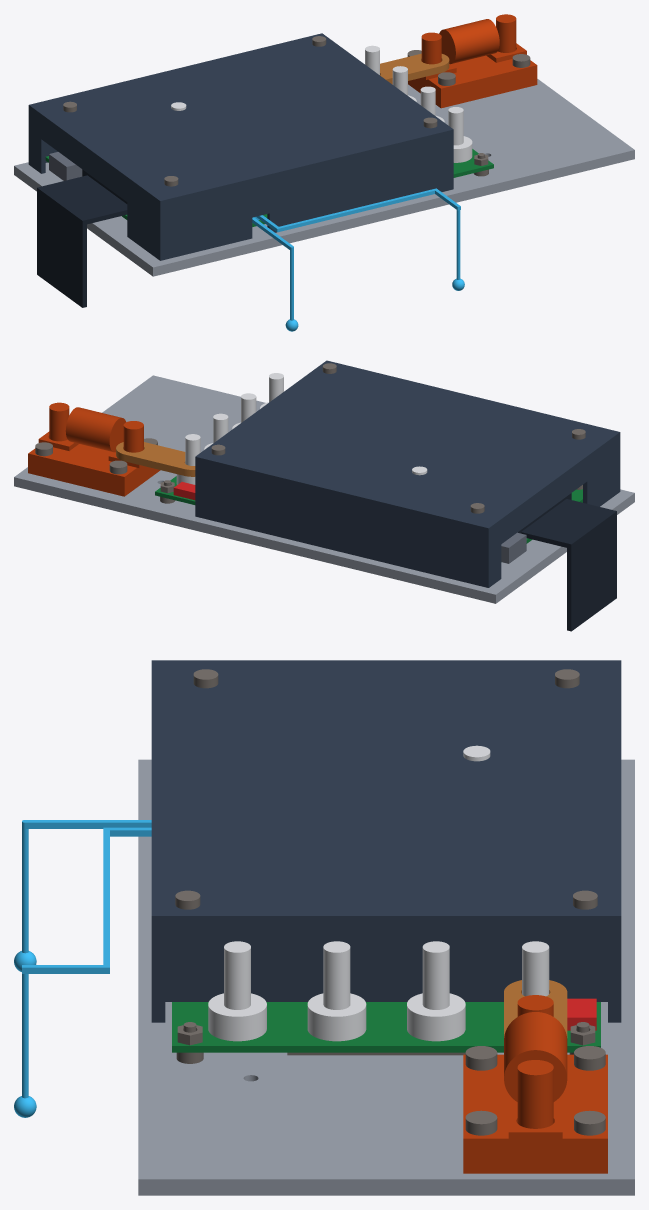
3 renders of one model, top to bottom at view 1: azimuth 30°, elevation 25°; view 2: azimuth 150°, elevation 25°; view 3: azimuth 270°, elevation 25°, orthographic. The views are drawn at different scales.
Visible parts, largest first — view 1: Flame-retardant cover, Base plate and heat spreader, Pack fuse and holder, Balance connector and lead harness, Temperature sensors (3), Power terminals (B-, P-, P+, B+), Gap pad, spacers, pillars and screws, Fuse link (copper bar), CAN and UART connector, Main PCB, 4-layer, 2 oz copper; view 2: Flame-retardant cover, Base plate and heat spreader, Pack fuse and holder, Balance connector and lead harness, Power terminals (B-, P-, P+, B+), Fuse link (copper bar), Gap pad, spacers, pillars and screws, CAN and UART connector, Main PCB, 4-layer, 2 oz copper; view 3: Flame-retardant cover, Base plate and heat spreader, Pack fuse and holder, Power terminals (B-, P-, P+, B+), Main PCB, 4-layer, 2 oz copper, Gap pad, spacers, pillars and screws, Temperature sensors (3), Fuse link (copper bar), Secondary protector.
Boxes of the visible parts, x1,y1,x2,y2 form: Flame-retardant cover: (28, 33, 453, 260); Base plate and heat spreader: (14, 79, 634, 276); Pack fuse and holder: (408, 14, 537, 108); Balance connector and lead harness: (37, 169, 127, 307); Temperature sensors (3): (252, 188, 464, 331); Power terminals (B-, P-, P+, B+): (365, 45, 472, 162); Gap pad, spacers, pillars and screws: (63, 36, 530, 186); Fuse link (copper bar): (380, 53, 449, 84); CAN and UART connector: (49, 152, 82, 180); Main PCB, 4-layer, 2 oz copper: (45, 149, 493, 226); Flame-retardant cover: (195, 360, 620, 587); Base plate and heat spreader: (14, 375, 634, 603); Pack fuse and holder: (28, 402, 160, 496); Balance connector and lead harness: (517, 493, 616, 631); Power terminals (B-, P-, P+, B+): (176, 373, 283, 484); Fuse link (copper bar): (116, 442, 195, 476); Gap pad, spacers, pillars and screws: (35, 363, 585, 513); CAN and UART connector: (501, 532, 526, 563); Main PCB, 4-layer, 2 oz copper: (155, 476, 582, 543); Flame-retardant cover: (151, 660, 621, 1022); Base plate and heat spreader: (138, 759, 634, 1195); Pack fuse and holder: (463, 995, 607, 1173); Power terminals (B-, P-, P+, B+): (208, 941, 549, 1041); Main PCB, 4-layer, 2 oz copper: (172, 1002, 600, 1052); Gap pad, spacers, pillars and screws: (175, 669, 605, 1135); Temperature sensors (3): (14, 820, 151, 1117); Fuse link (copper bar): (504, 980, 567, 1037); Secondary protector: (567, 998, 596, 1030).
Size of the model in its own units: 0.232 by 0.0577 by 0.1375.
